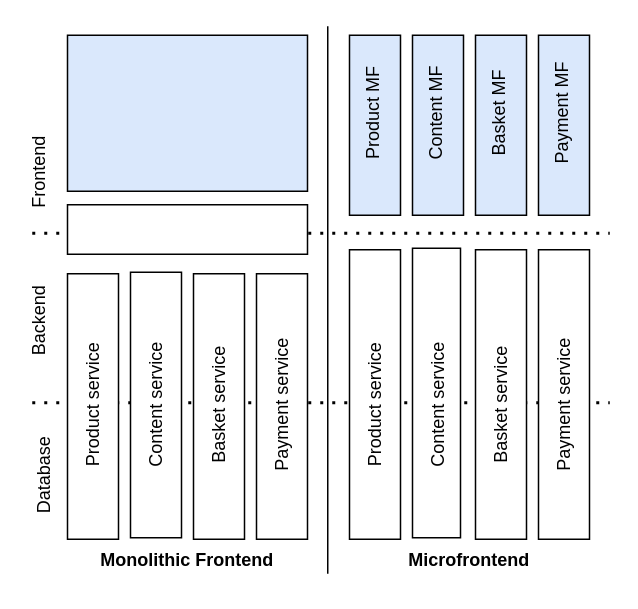
Some shapes in this 638 by 609 pixel diagram are drawn without their labels. Here are the shapes that lost their labels. From the top down, the centre of each, then its label:
At (x=187, y=112): "Frontend team".
At (x=187, y=228): "Aggregation layer / gateway".
